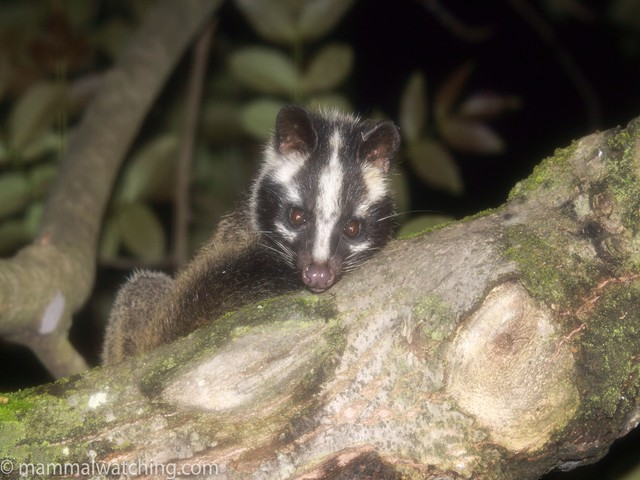civet: (101, 104, 408, 350)
